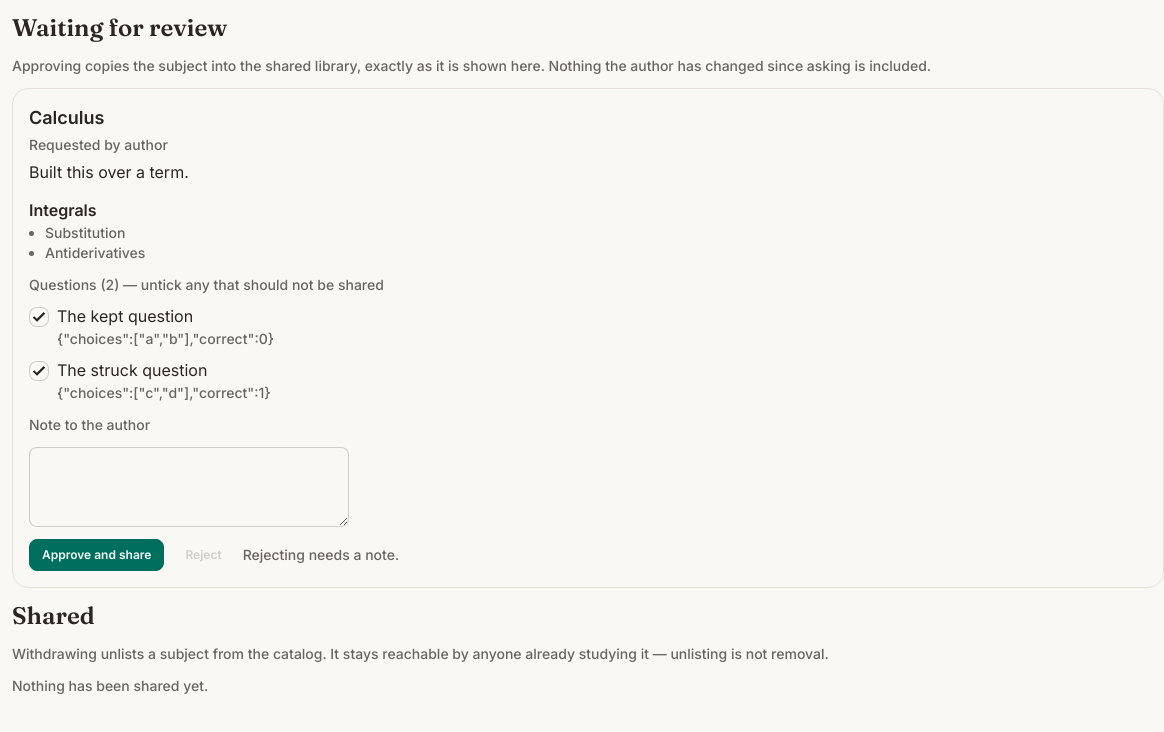
Scenario: the review queue › will not reject without a note
This screenshot has width=1164, height=732.
Expected: the button "Reject" is disabled, [172, 539, 235, 571]
Expected: the text "Rejecting needs a note." is shown, [243, 545, 399, 565]
Type "Answer keys are wrong." into the text box labelled "Note to the author". click: (189, 487)
box: [29, 447, 349, 527]
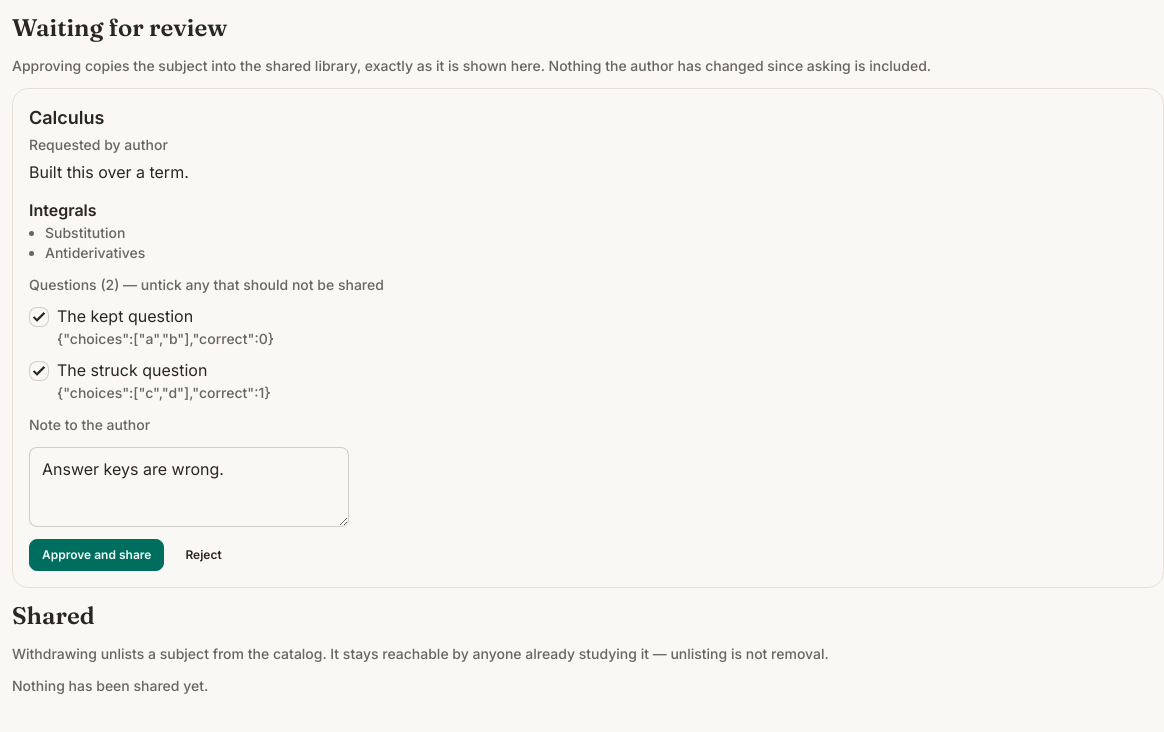
Result: the button "Reject" is enabled at [172, 539, 235, 571]
